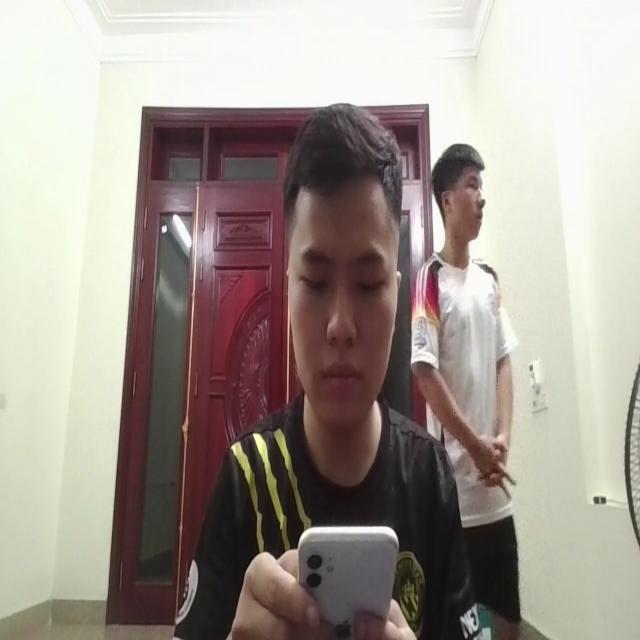extra_person: (418, 123, 526, 587)
phone: (288, 511, 402, 634)
student: (264, 93, 432, 530)
